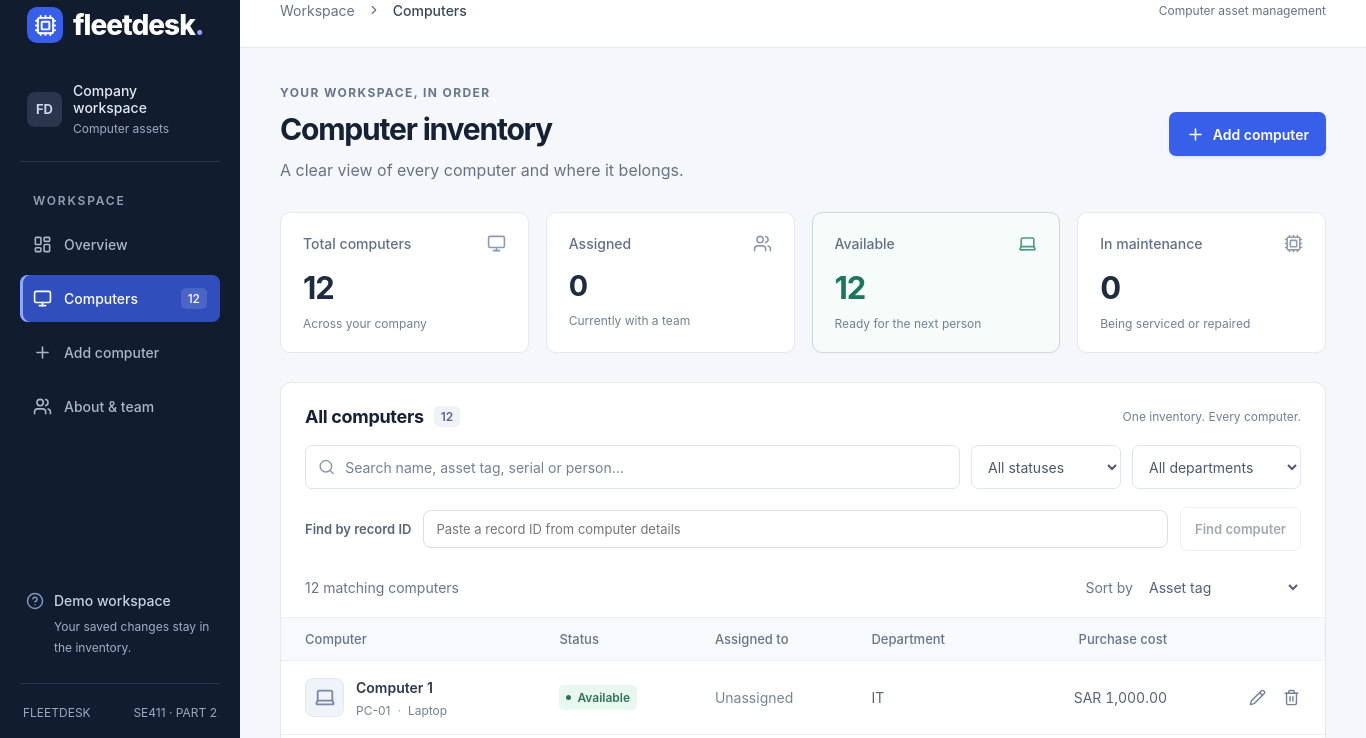
Scenario: Frontend + HTTP integration › updates through PUT while retaining the existing ID
The image size is (1366, 738).
Expected: the button with aria-label "View PC-01 details" is shown, [356,677,433,700]
Step 1. Click the button named "Edit PC-01" → (1257, 697), box [1241,680,1273,714]
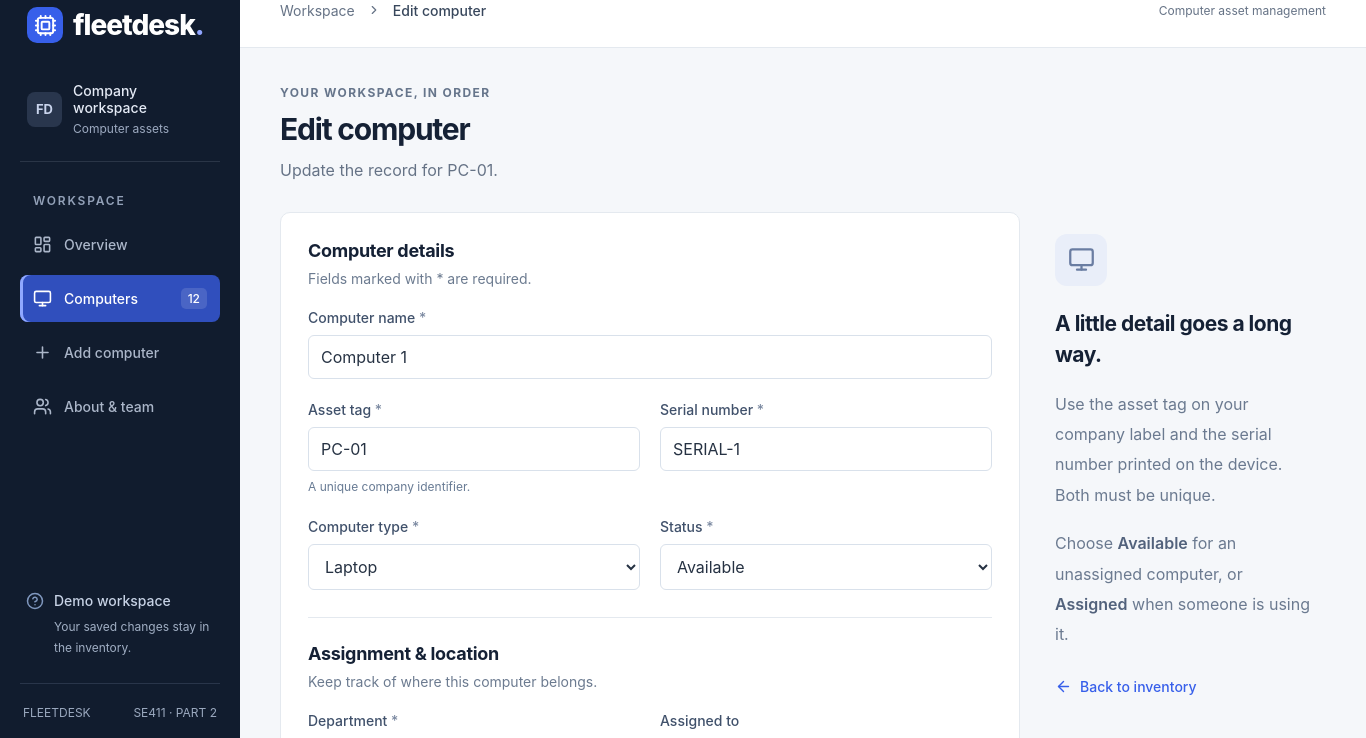
Step 2. Replace the text in the field labelled "Computer name" with "Renamed computer" → (650, 357), box [308,335,992,379]
(page scrolled)
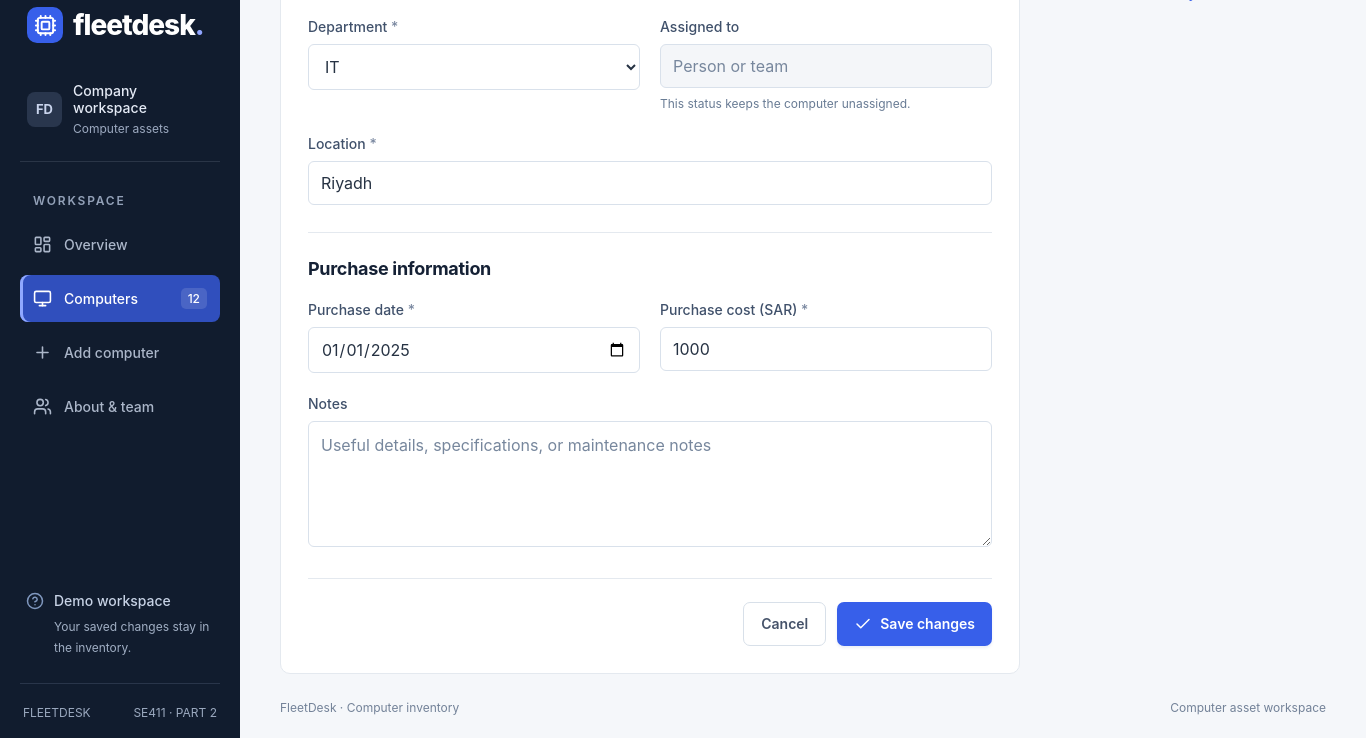
Step 3. Click the button "Save changes" → (915, 624), box [837,602,992,646]
(page scrolled)
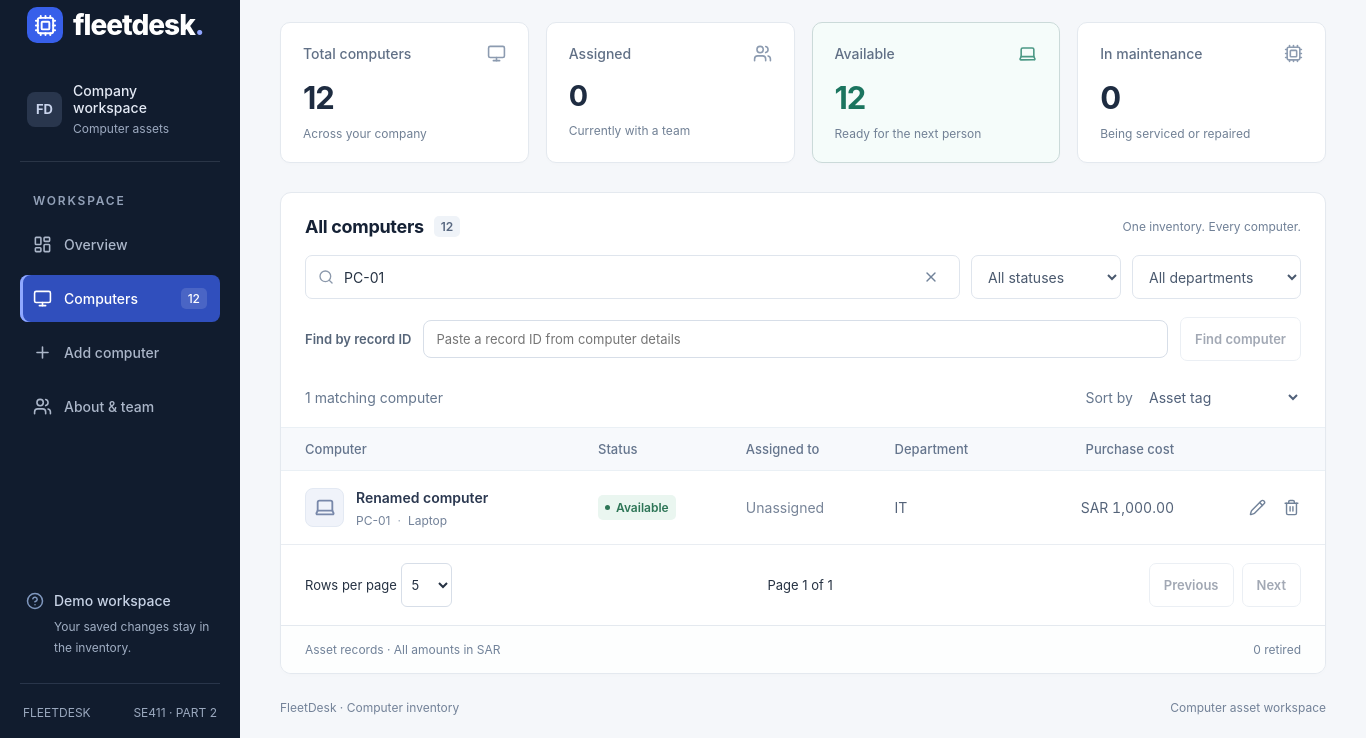
Expected: the button with aria-label "View PC-01 details" reads "Renamed computer", [356,487,488,510]
